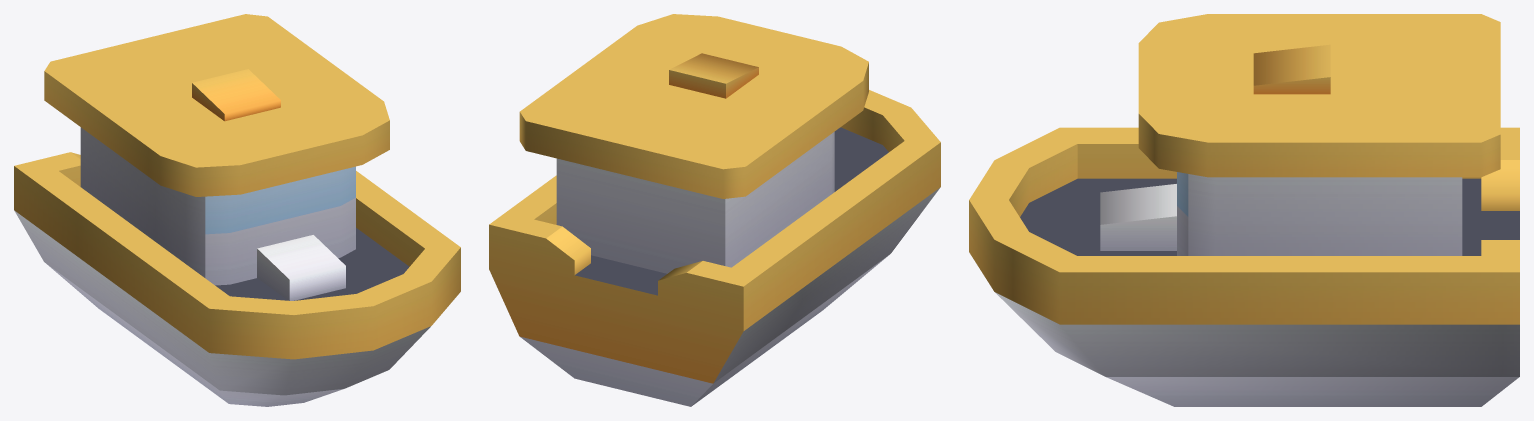
The model's file is boat-tug-c.glb.
3 views of the same model, side by side, from view 1: azimuth 30°, elevation 25°; view 2: azimuth 150°, elevation 25°; view 3: azimuth 270°, elevation 25° (orthographic). The views are drawn at different scales.
Visible parts, largest first — view 1: boat-tug-c; view 2: boat-tug-c; view 3: boat-tug-c.
Part boxes in pixels (bbox=[...]): boat-tug-c: bbox=[14, 14, 460, 406]; boat-tug-c: bbox=[489, 14, 940, 406]; boat-tug-c: bbox=[969, 14, 1519, 406].
Size of the model in its own units: 1.78 by 1.8 by 2.87.
Materials: 1 (1 with a texture image).
